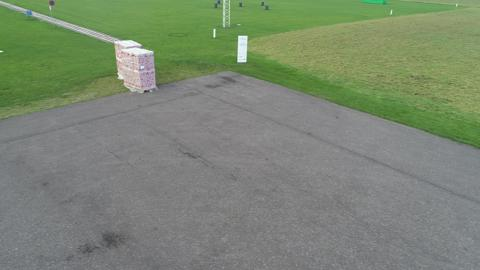RockwoolPallet: (114, 39, 142, 76)
